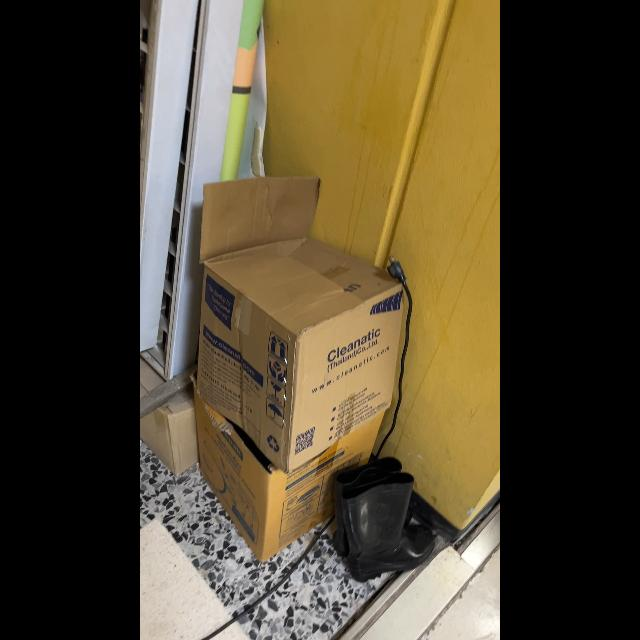cardboard_box: (197, 182, 407, 472), (196, 411, 382, 561)
